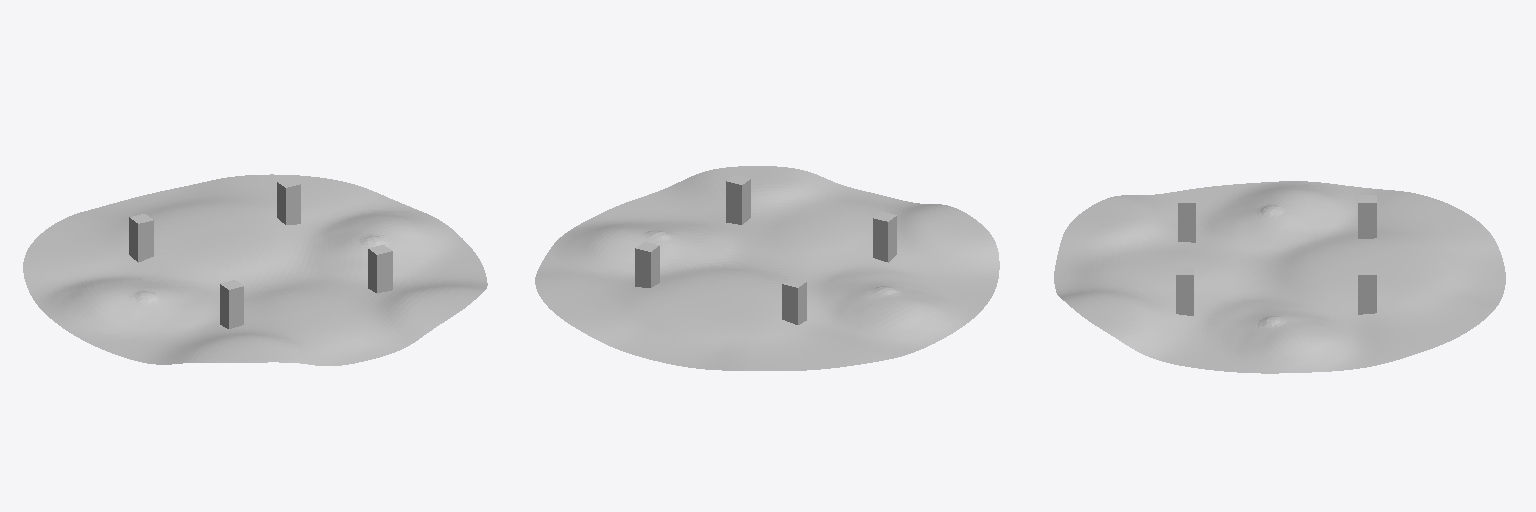
File: plain.obj
3 views of the same model, side by side, from view 1: azimuth 30°, elevation 25°; view 2: azimuth 150°, elevation 25°; view 3: azimuth 270°, elevation 25° (orthographic).
Visible parts, largest first — view 1: bumpyArena2_Mesh1; view 2: bumpyArena2_Mesh1; view 3: bumpyArena2_Mesh1.
Boxes of the visible parts, <box> form: bumpyArena2_Mesh1: <box>23,174,487,365</box>; bumpyArena2_Mesh1: <box>535,166,999,370</box>; bumpyArena2_Mesh1: <box>1054,181,1505,373</box>.
Bounding box in the file's own units: 25.09 × 2.73 × 24.94.